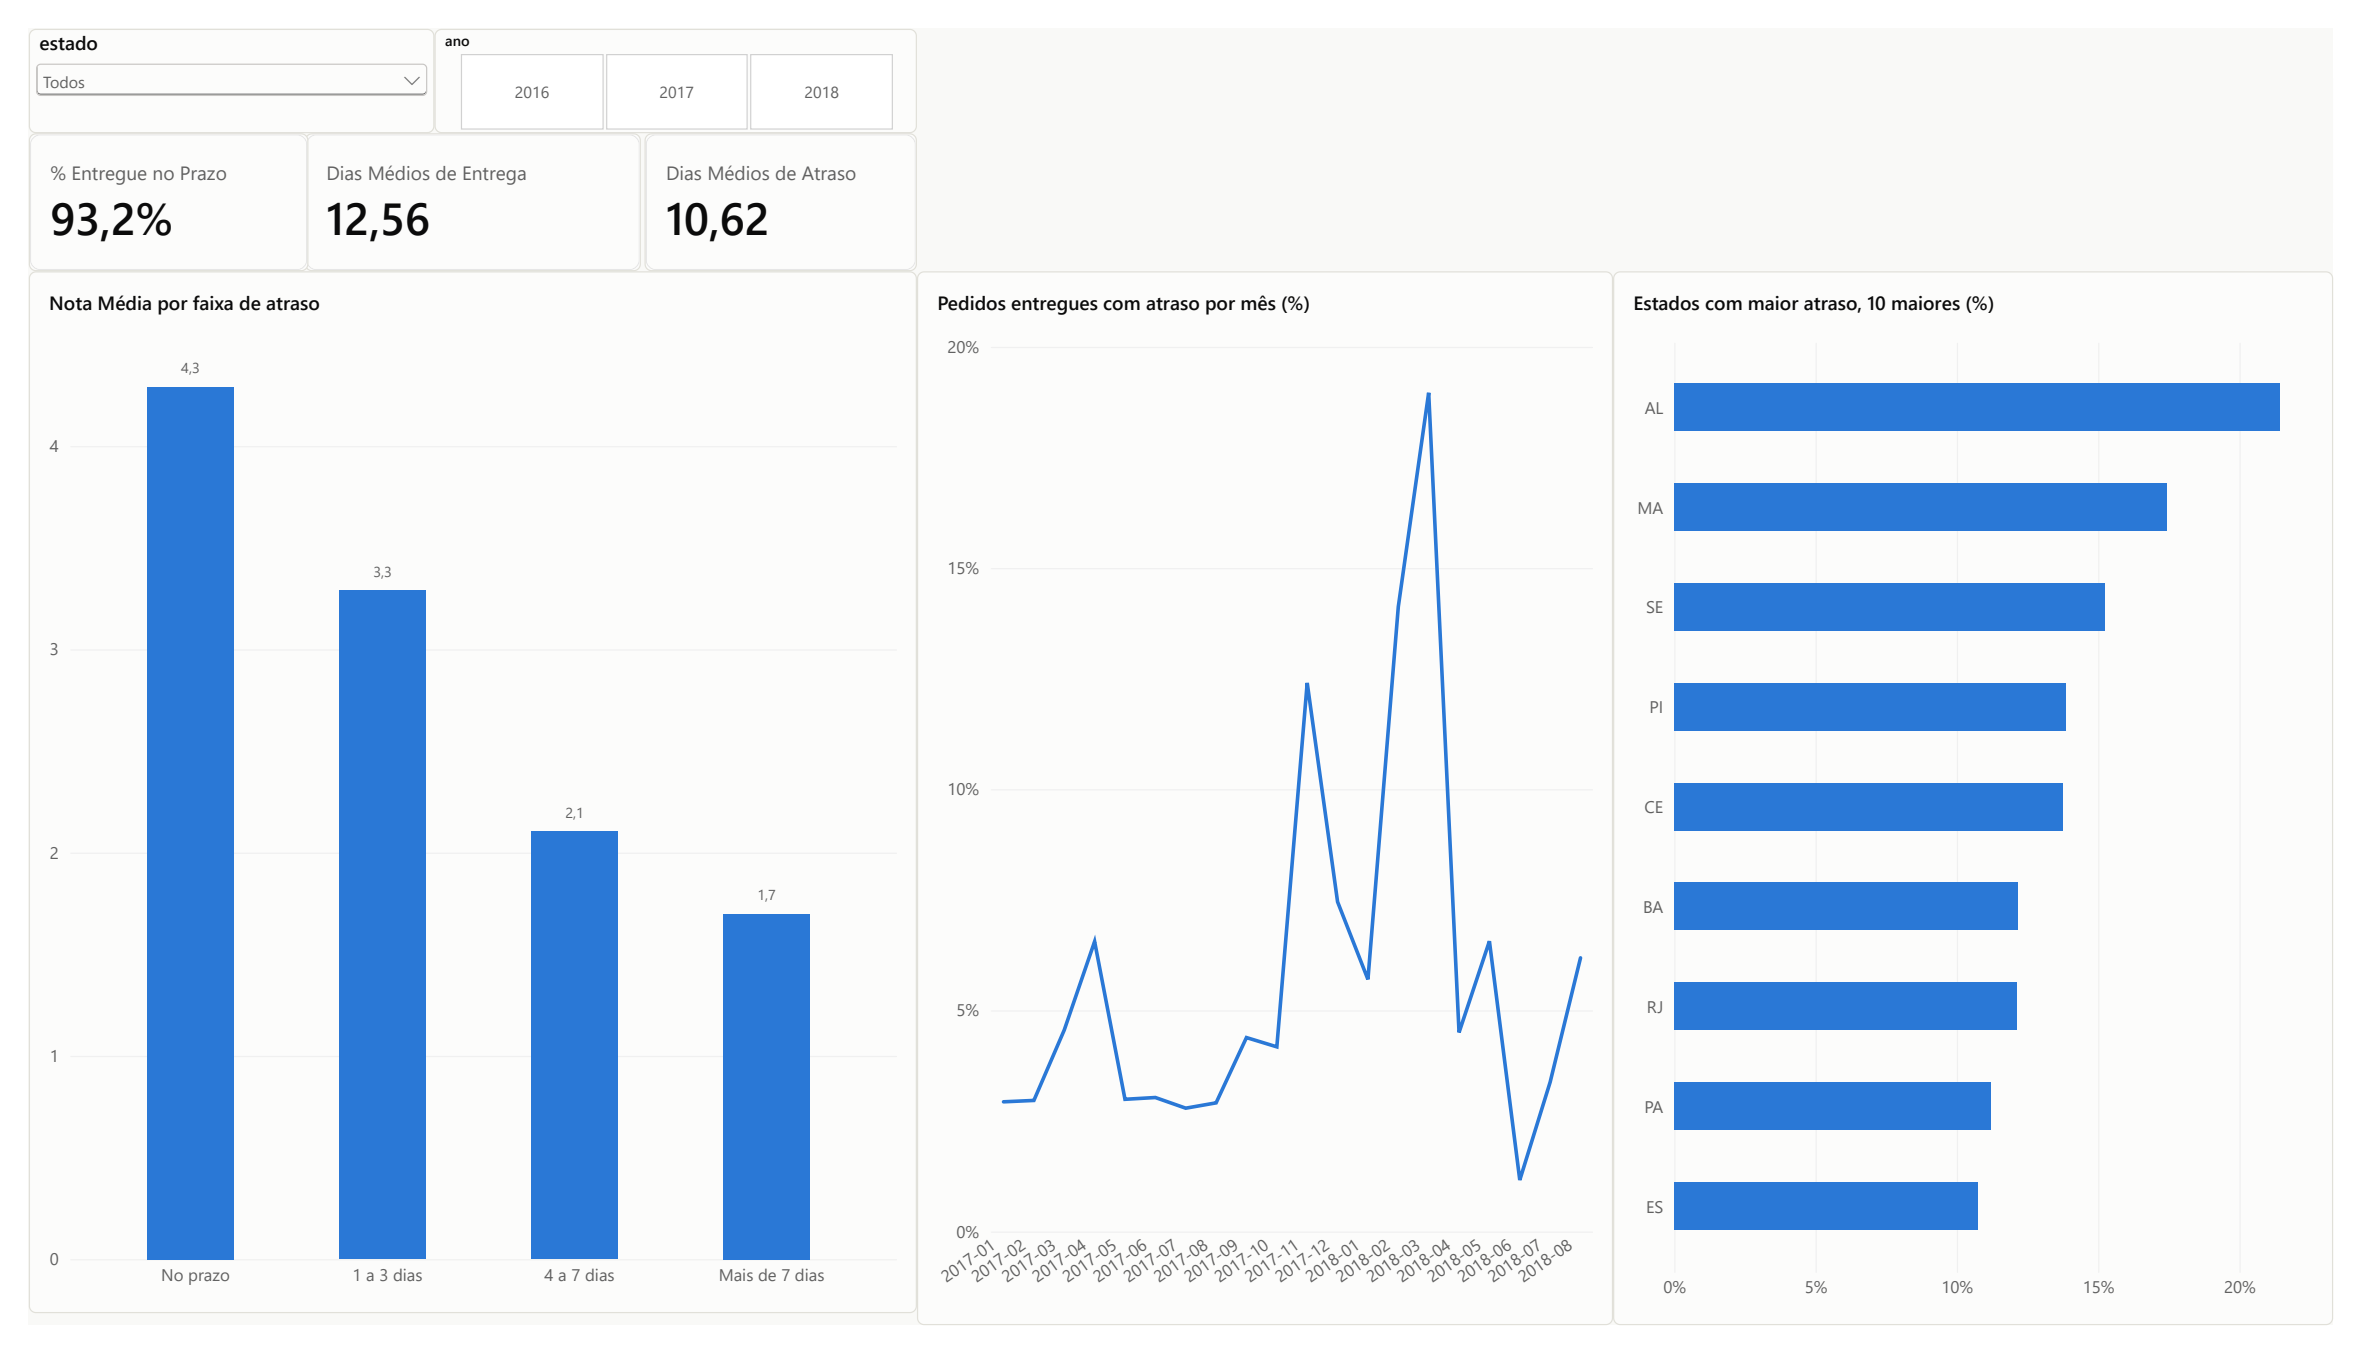

What the dashboard file says about the page in this screenshot:
{"tool":"powerbi","page":{"name":"Entrega","canvas":[1920,1080],"ordinal":1},"visuals":[{"type":"lineChart","title":"Pedidos entregues com atraso por mês (%)","fields":{"Category":["dim_data.ano_mes"],"Y":["Medidas.% Atrasado"]},"box":[740,201.7,580,878.3],"z":0},{"type":"barChart","title":"Estados com maior atraso, 10 maiores (%)","fields":{"Category":["dim_cliente.estado"],"Y":["Medidas.% Atrasado"]},"box":[1320,201.7,600,878.3],"z":1000},{"type":"cardVisual","fields":{"Data":["Medidas.Dias Médios de Entrega"]},"box":[230,86.7,280,115],"z":2000},{"type":"cardVisual","fields":{"Data":["Medidas.% Entregue no Prazo"]},"box":[0,87,233.3,115],"z":3000},{"type":"cardVisual","fields":{"Data":["Medidas.Dias Médios de Atraso"]},"box":[513.3,86.7,226.7,115],"z":4000},{"type":"slicer","fields":{"Values":["dim_data.ano"]},"box":[338.3,0,401.7,86.7],"z":5000},{"type":"slicer","fields":{"Values":["dim_cliente.estado"]},"box":[0,0,338.3,86.7],"z":6000},{"type":"lineClusteredColumnComboChart","title":"Nota Média por faixa de atraso","fields":{"Category":["fato_pedidos.faixa_atraso"],"Y":["Medidas.Nota Média"]},"box":[0,201.7,740,868.3],"z":7000}]}

Visuals, with their boxes in screenshot pixels (x1, y1, x2, y2), scaled from the page's 1920x1080 canvas onto the 2362x1354 screenshot:
"Pedidos entregues com atraso por mês (%)" lineChart: [x1=910, y1=253, x2=1624, y2=1353]
"Estados com maior atraso, 10 maiores (%)" barChart: [x1=1624, y1=253, x2=2361, y2=1353]
cardVisual - Medidas.Dias Médios de Entrega: [x1=283, y1=109, x2=627, y2=253]
cardVisual - Medidas.% Entregue no Prazo: [x1=0, y1=109, x2=287, y2=253]
cardVisual - Medidas.Dias Médios de Atraso: [x1=631, y1=109, x2=910, y2=253]
slicer - dim_data.ano: [x1=416, y1=0, x2=910, y2=109]
slicer - dim_cliente.estado: [x1=0, y1=0, x2=416, y2=109]
"Nota Média por faixa de atraso" lineClusteredColumnComboChart: [x1=0, y1=253, x2=910, y2=1341]
